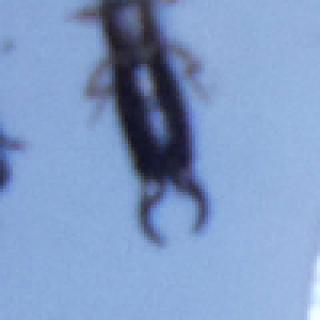earwig: (59, 0, 222, 247)
